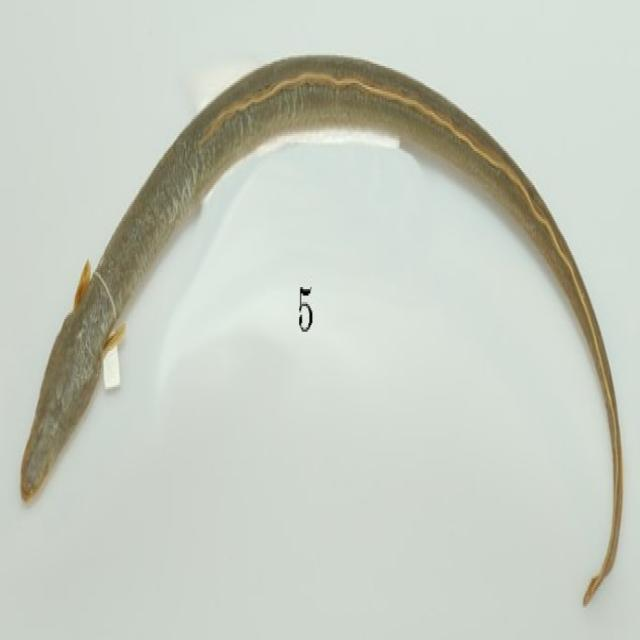Freshwater-Eel: (3, 16, 624, 609)
